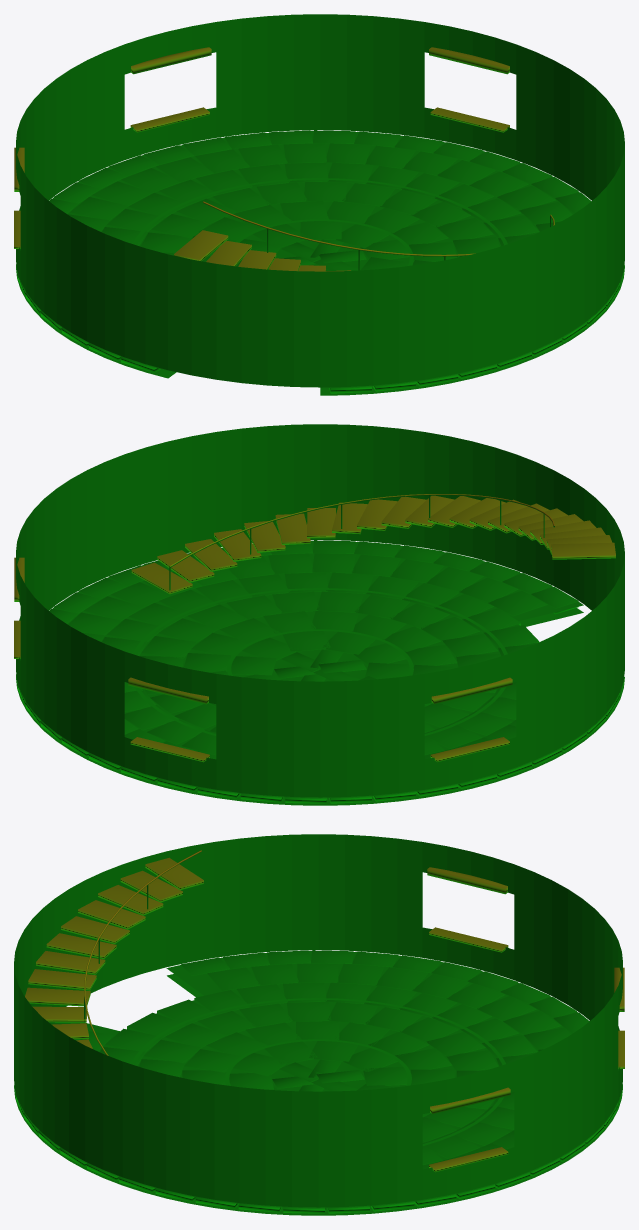
Rendered from spire_tier.glb.
The picture shows the model from 3 angles, top to bottom: view 1: azimuth 30°, elevation 25°; view 2: azimuth 150°, elevation 25°; view 3: azimuth 270°, elevation 25°; orthographic projection.
Parts seen in each view (by area): view 1: spire_tier; view 2: spire_tier; view 3: spire_tier.
Part boxes in pixels (x1=…): spire_tier: x1=14, y1=14, x2=624, y2=395; spire_tier: x1=14, y1=424, x2=624, y2=805; spire_tier: x1=14, y1=834, x2=624, y2=1215.
Size of what is drawn, in the model's own units: 20 by 5.47 by 20.06.
